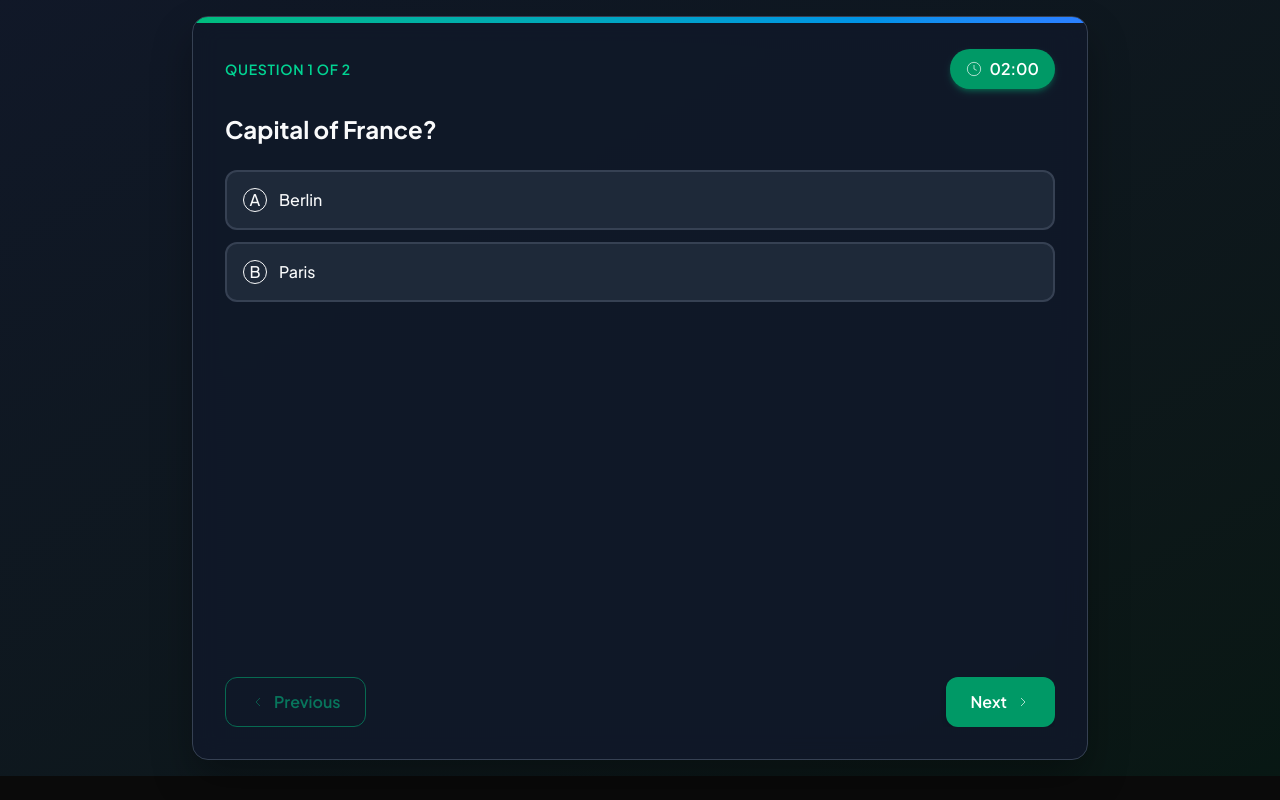
Scenario: QuizPlayer › walks through the questions, submits the picks and opens the score page
Later steps or results of the test are not shown.
Expected: the text "QUESTION 1 OF 2" is shown, left=225, top=59, right=351, bottom=79
Expected: the button "Previous" is disabled, left=225, top=677, right=366, bottom=727
Click the text "Paris": (297, 272) left=279, top=261, right=316, bottom=282
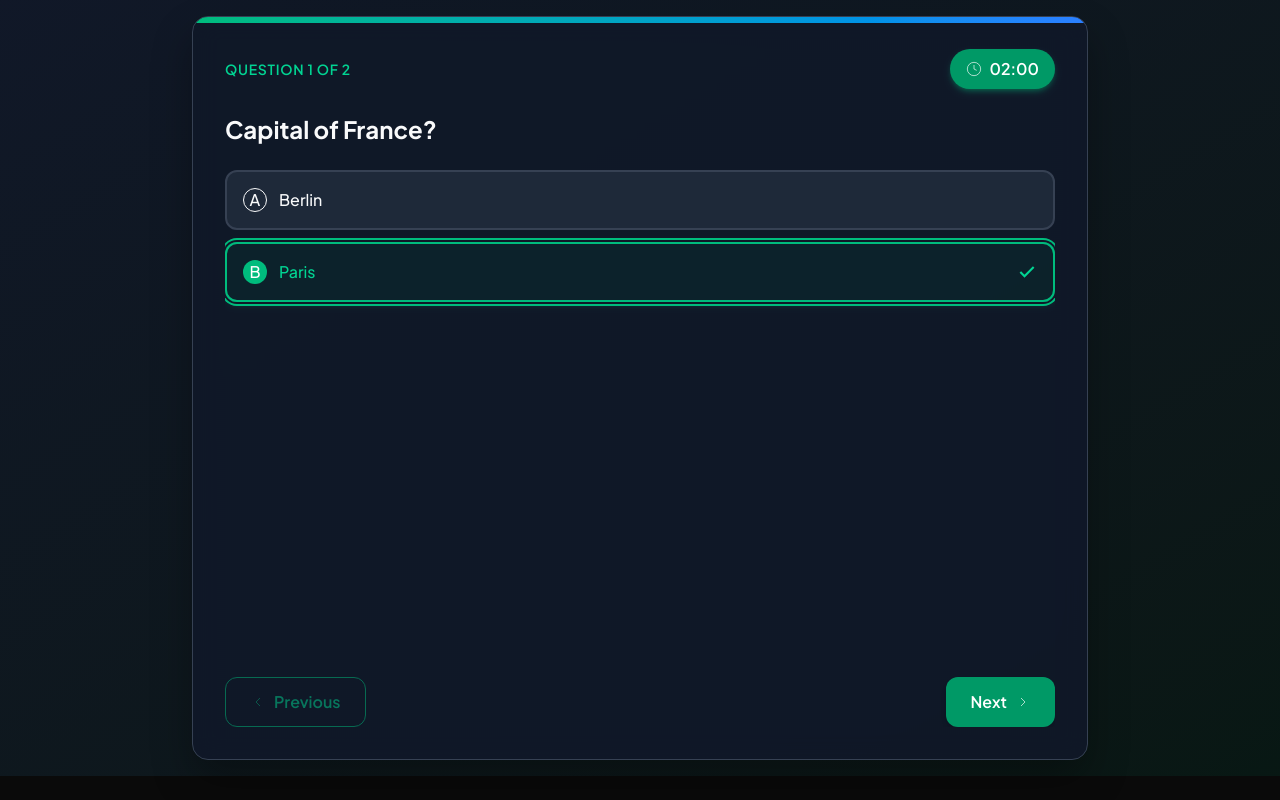
Click the button "Next": (1001, 702) left=946, top=677, right=1055, bottom=727
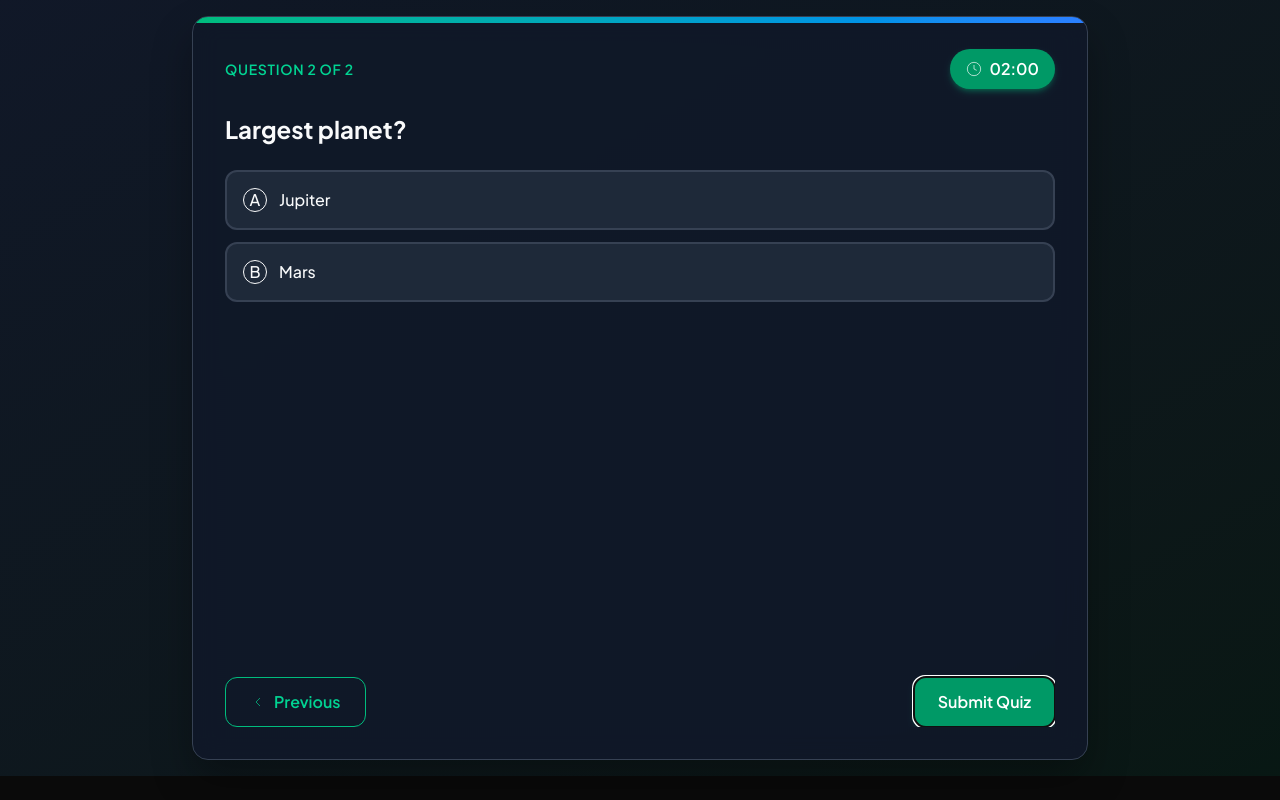
Expected: the heading "Largest planet?" is shown, left=225, top=114, right=407, bottom=144
